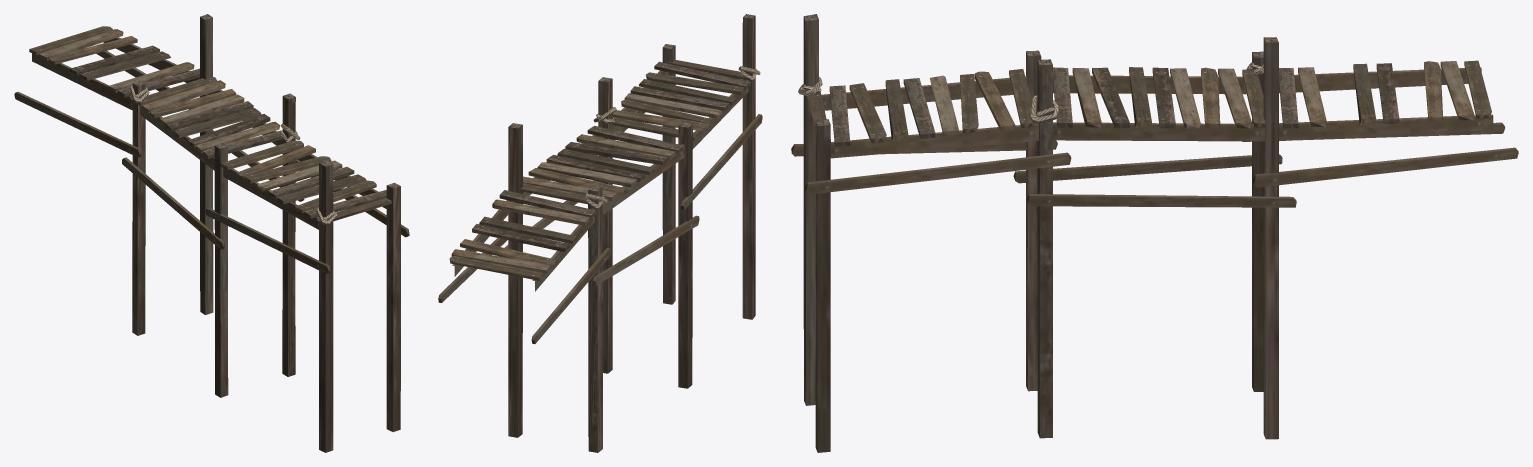
Rendered from swamp_a-map.glb.
3 renders of one model, left to right at view 1: azimuth 30°, elevation 25°; view 2: azimuth 150°, elevation 25°; view 3: azimuth 270°, elevation 25°, orthographic. The views are drawn at different scales.
Visible parts, largest first — view 1: wooden_walkway_900_LOD0; view 2: wooden_walkway_900_LOD0; view 3: wooden_walkway_900_LOD0.
Boxes of the visible parts, x1=… form: wooden_walkway_900_LOD0: x1=14, y1=14, x2=409, y2=452; wooden_walkway_900_LOD0: x1=438, y1=14, x2=762, y2=452; wooden_walkway_900_LOD0: x1=791, y1=14, x2=1518, y2=452.
Size of the model in its own units: 2.8 by 5.84 by 9.72.
2 materials, 2 textured.
